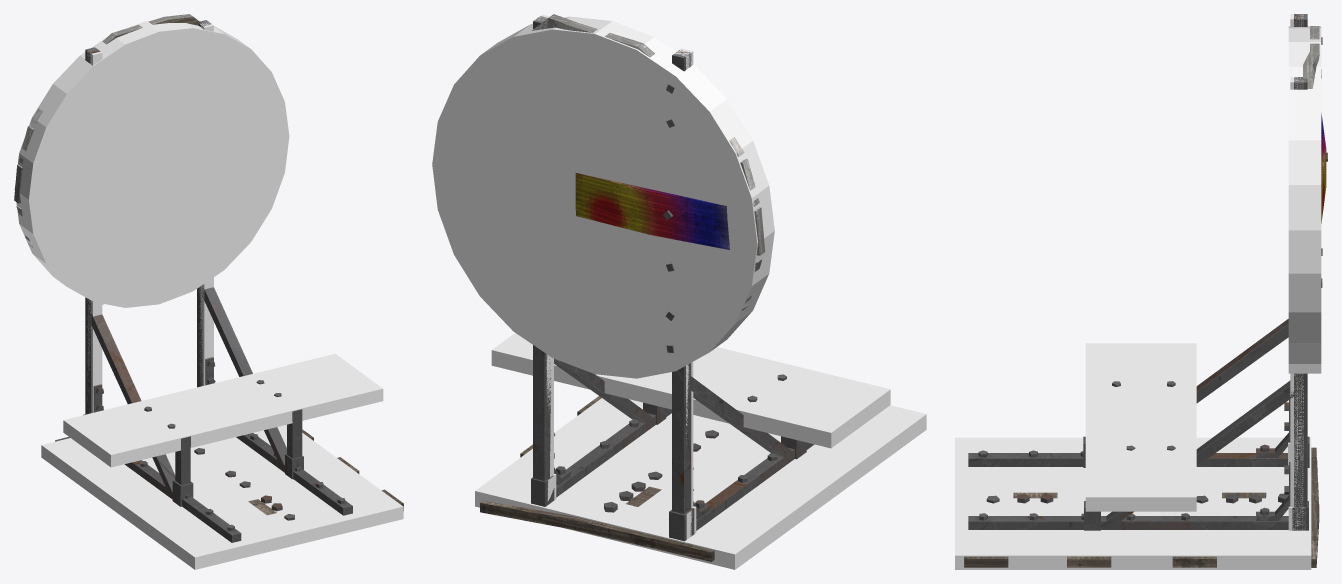
File: Cannontarget.glb
3 renders of one model, left to right at view 1: azimuth 30°, elevation 25°; view 2: azimuth 150°, elevation 25°; view 3: azimuth 270°, elevation 25°, orthographic. The views are drawn at different scales.
Parts seen in each view (by area): view 1: Cannontarget_col, Cannontarget; view 2: Cannontarget_col, Cannontarget; view 3: Cannontarget_col, Cannontarget.
Boxes of the visible parts, x1,y1,x2,y2 form: Cannontarget_col: [14, 20, 403, 569]; Cannontarget: [14, 14, 403, 542]; Cannontarget_col: [432, 14, 926, 569]; Cannontarget: [480, 14, 814, 561]; Cannontarget_col: [955, 14, 1321, 569]; Cannontarget: [964, 14, 1327, 567].
Size of the model in its own units: 1.08 by 1.57 by 1.11.
2 materials, 1 textured.
